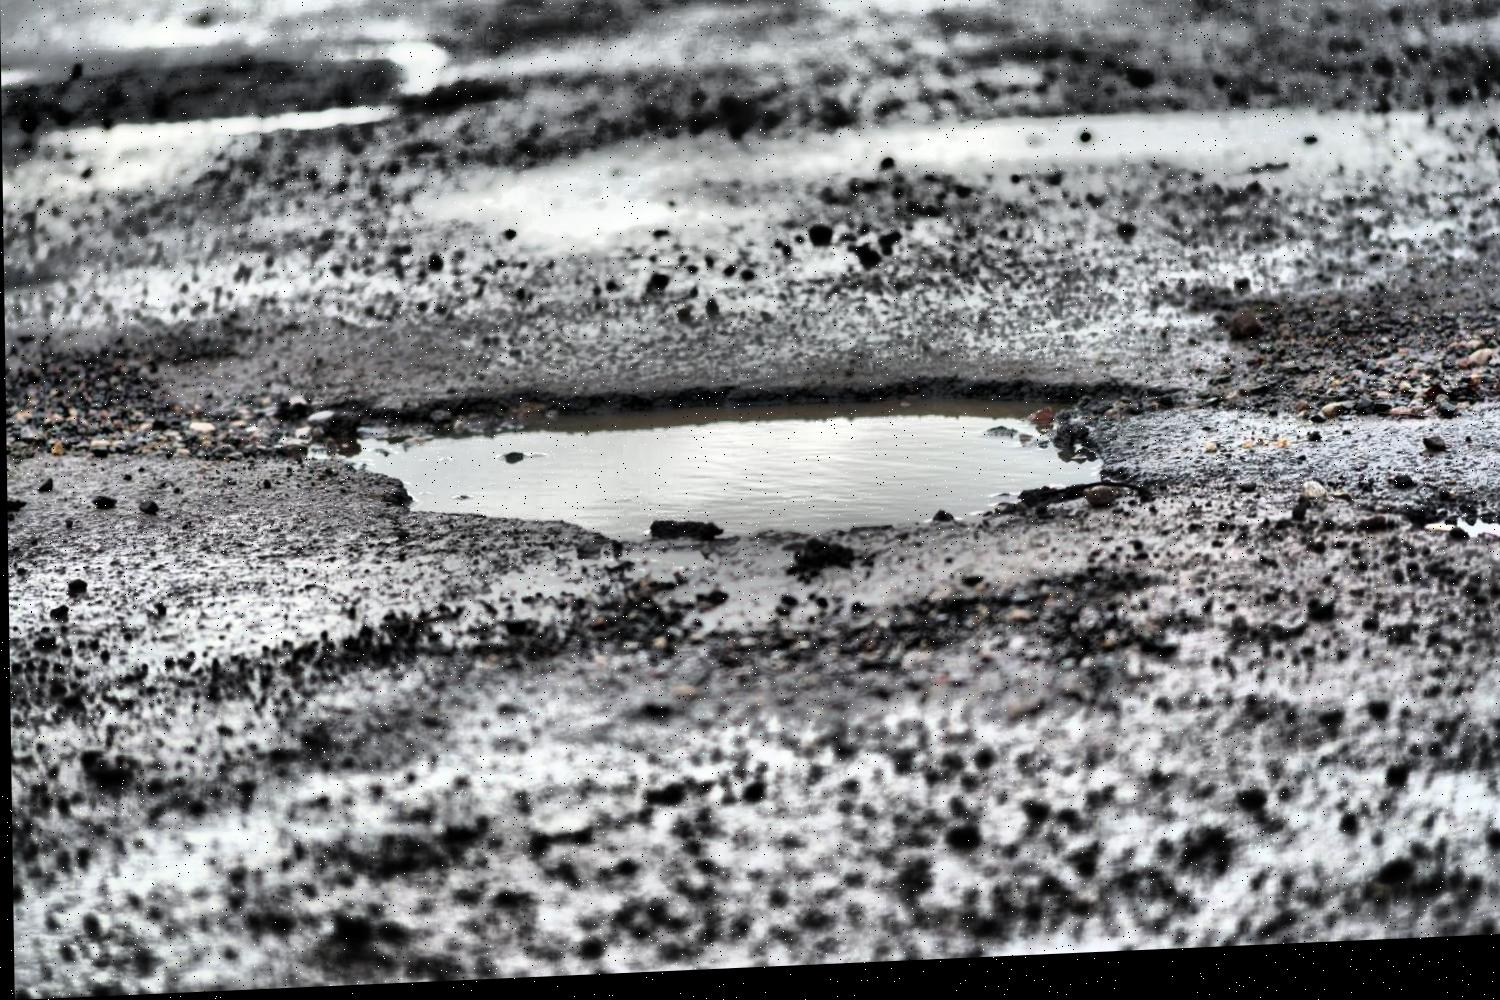pothole: (287, 343, 1132, 581)
